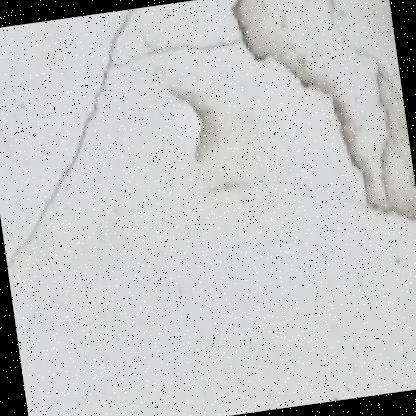Crack: (0, 0, 262, 307), (219, 0, 415, 270)
